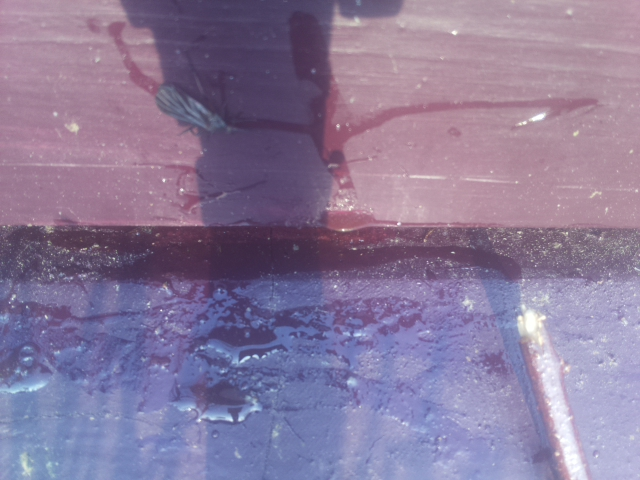ant: (159, 79, 236, 141), (0, 339, 47, 392)
